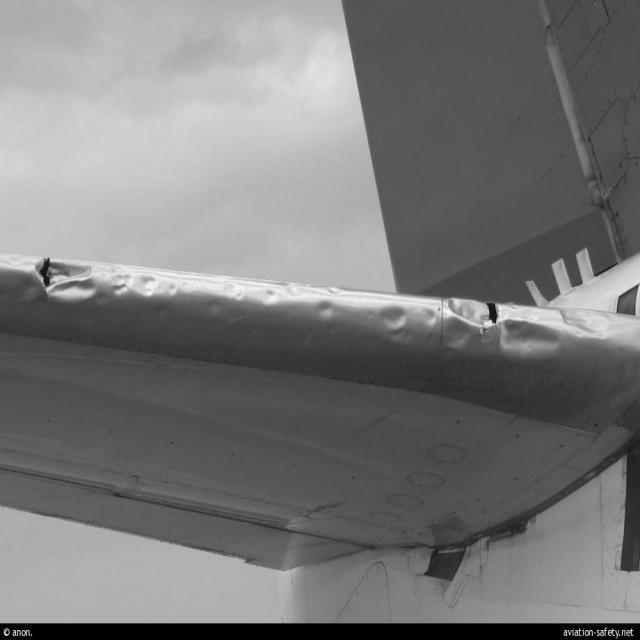Dent: (31, 256, 610, 358)
